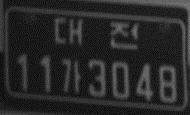0: (110, 58, 131, 101)
1: (37, 52, 55, 95), (15, 50, 32, 93)
3: (85, 57, 108, 98)
4: (133, 61, 153, 103)
8: (157, 63, 178, 105)
가: (60, 56, 82, 95)
대전_D: (53, 15, 140, 51)
